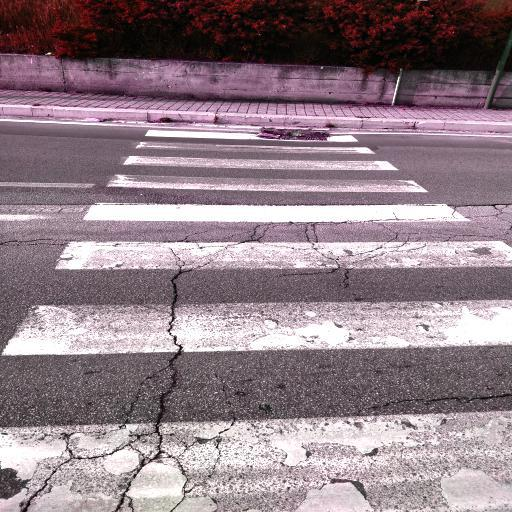crosswalk: (0, 238, 512, 370), (80, 172, 480, 226), (131, 128, 382, 156)
